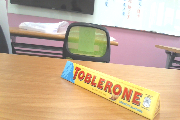Chocolate: (50, 59, 167, 120)
